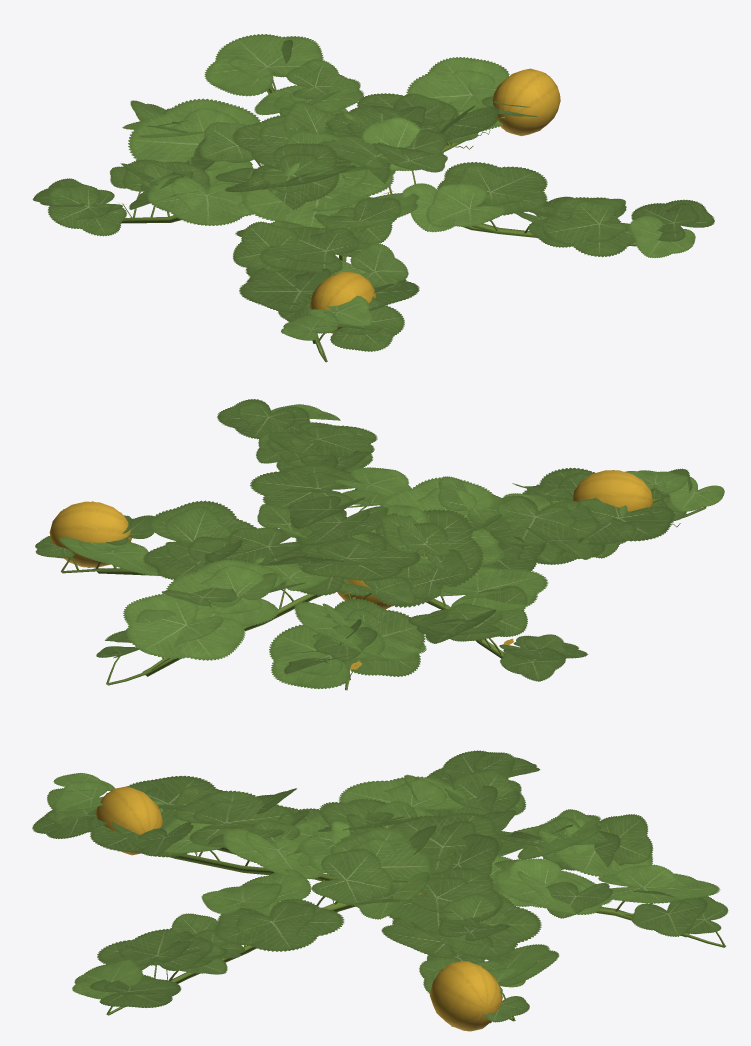
Rendered from forage-melon.glb.
3 views of the same model, one above another, from view 1: azimuth 30°, elevation 25°; view 2: azimuth 150°, elevation 25°; view 3: azimuth 270°, elevation 25° (orthographic). The views are drawn at different scales.
Visible parts, largest first — view 1: bodyFar, body, fruit; view 2: body, bodyFar, fruit; view 3: body, bodyFar, fruit.
Boxes of the visible parts, <box> form: bodyFar: <box>48,34,714,351</box>; body: <box>32,40,698,362</box>; fruit: <box>310,68,560,333</box>; body: <box>35,401,724,690</box>; bodyFar: <box>59,399,674,689</box>; fruit: <box>49,470,660,609</box>; body: <box>47,752,728,1022</box>; bodyFar: <box>32,750,720,1007</box>; fruit: <box>95,786,502,1031</box>.
Bounding box in the file's own units: 1.75 × 0.2322 × 1.92.
1 material, 1 textured.
